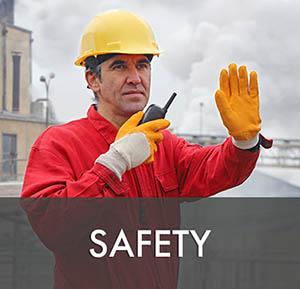helmet: (74, 9, 166, 66)
